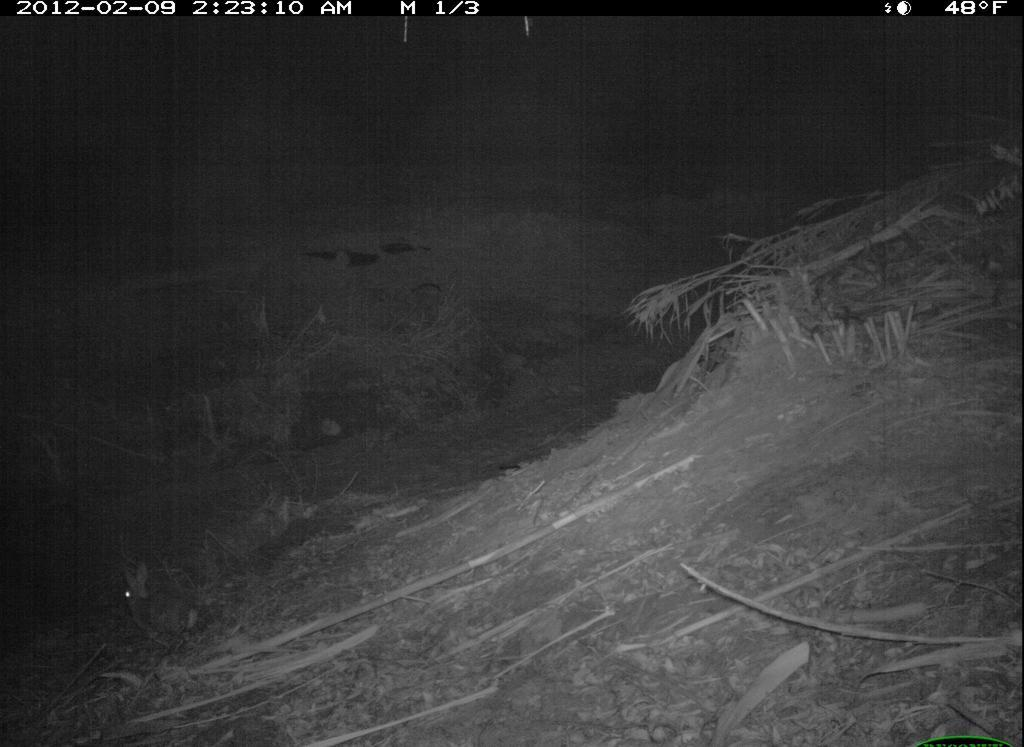rabbit: (100, 556, 212, 651)
